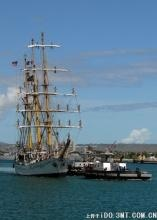fanchuan: (12, 30, 82, 176)
otherboat: (85, 151, 150, 181)
